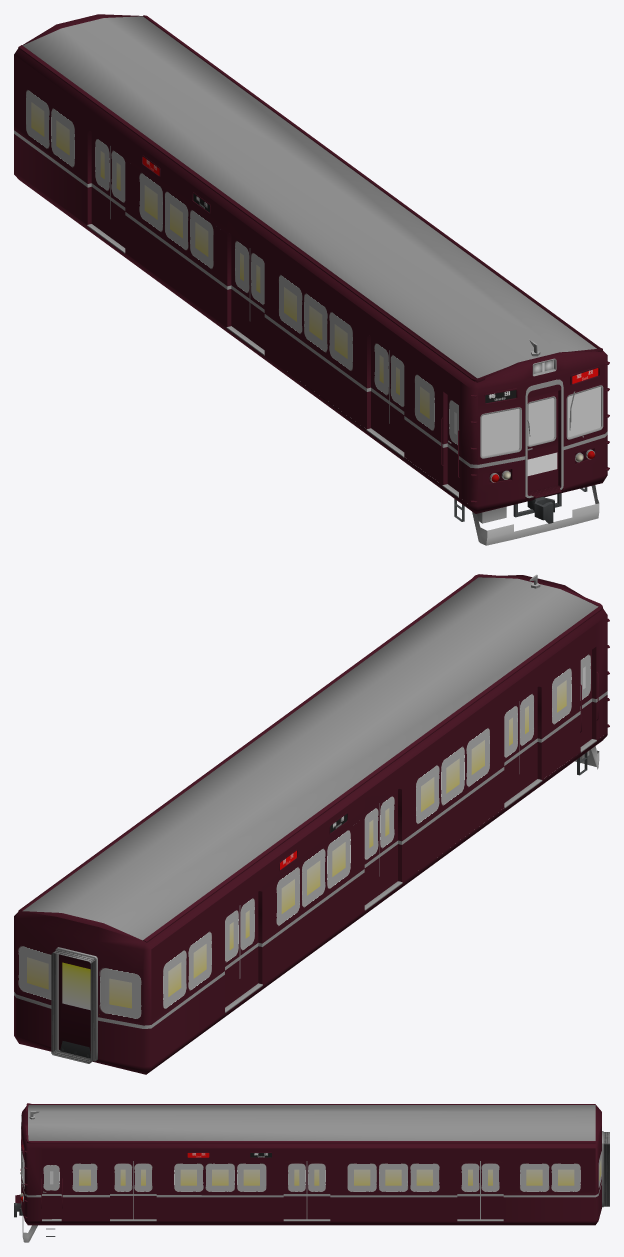
The picture shows the model from 3 angles, top to bottom: view 1: azimuth 30°, elevation 25°; view 2: azimuth 150°, elevation 25°; view 3: azimuth 270°, elevation 25°; orthographic projection. The views are drawn at different scales.
Parts seen in each view (by area): view 1: obj3; view 2: obj3; view 3: obj3.
Part boxes in pixels (x1,y1,x2,y2): obj3: (14,14,609,545); obj3: (14,574,609,1074); obj3: (14,1103,609,1242).
Bounding box in the file's own units: 6.68 × 8.31 × 39.48.
Materials: 32 (29 with a texture image).
